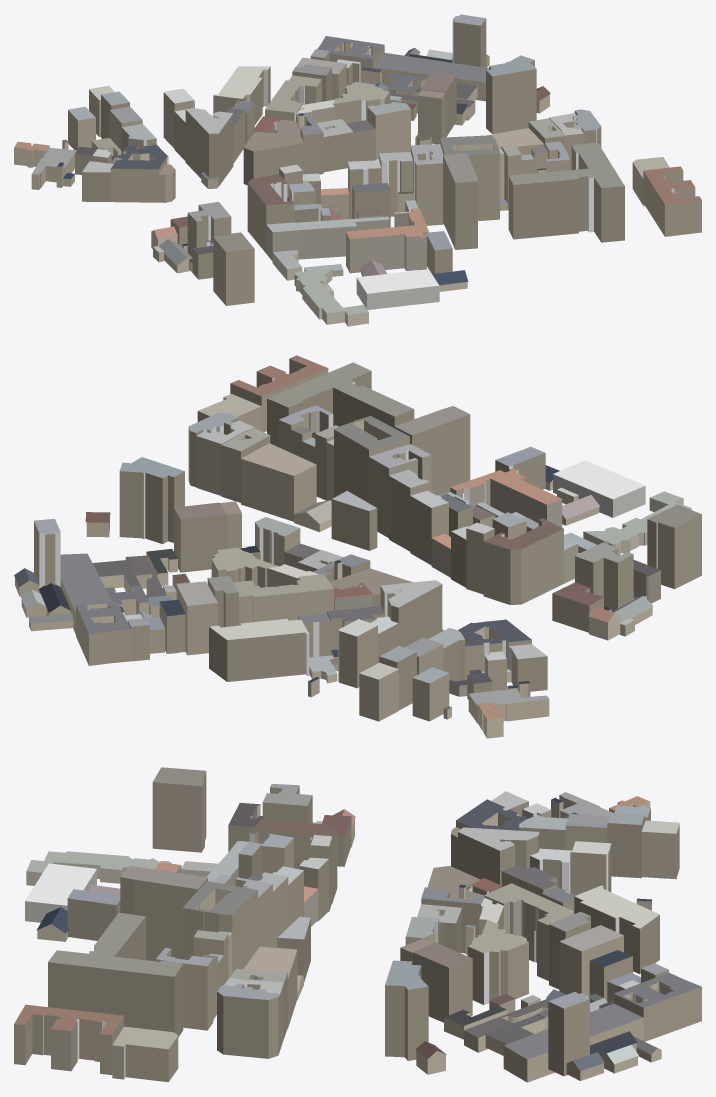
3 renders of one model, top to bottom at view 1: azimuth 30°, elevation 25°; view 2: azimuth 150°, elevation 25°; view 3: azimuth 270°, elevation 25°, orthographic. The views are drawn at different scales.
Visible parts, largest first — view 1: tuile; view 2: tuile; view 3: tuile.
Boxes of the visible parts, <box> form: tuile: <box>14,14,701,326</box>; tuile: <box>14,355,701,738</box>; tuile: <box>14,767,701,1082</box>.
Size of the model in its own units: 274 by 45.21 by 282.
